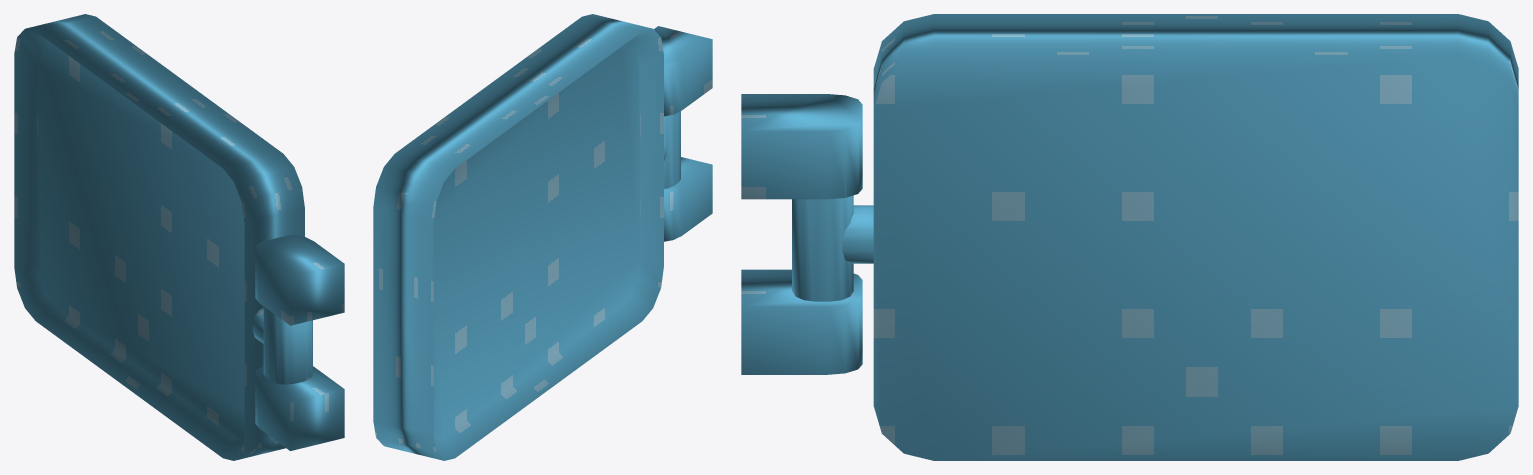
The model's file is Hopper_Gun._Painted_finished_screen.glb.
The picture shows the model from 3 angles, left to right: view 1: azimuth 30°, elevation 25°; view 2: azimuth 150°, elevation 25°; view 3: azimuth 270°, elevation 25°; orthographic projection. The views are drawn at different scales.
Visible parts, largest first — view 1: Cube; view 2: Cube; view 3: Cube.
Part boxes in pixels (bbox=[...]): Cube: bbox=[14, 14, 344, 460]; Cube: bbox=[373, 14, 712, 460]; Cube: bbox=[741, 14, 1518, 460].
Size of the model in its own units: 0.1402 by 0.6263 by 1.09.
1 material, 1 textured.
